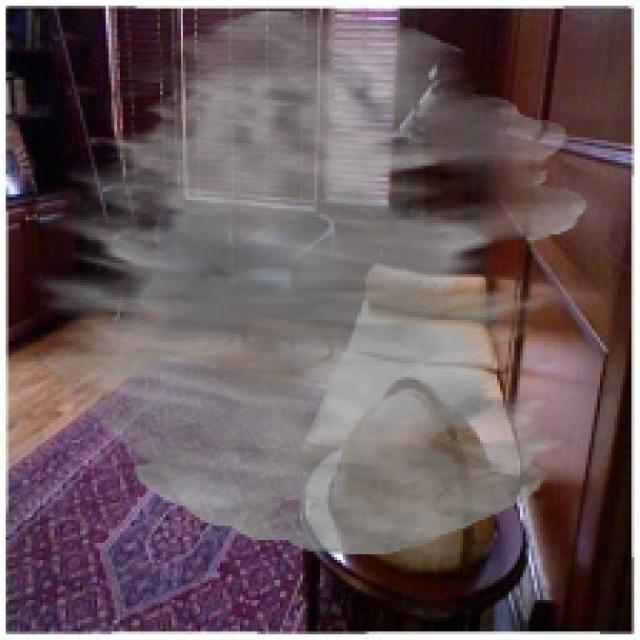smoke: (31, 9, 588, 554)
